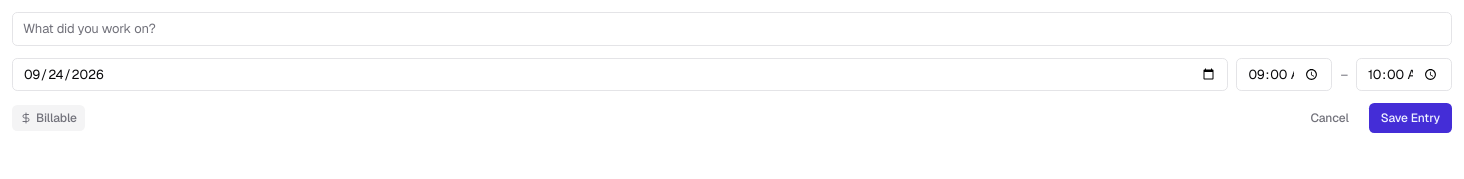
Test: ManualTimeEntryForm › should show "Network error" when fetch throws
Click the button "Save Entry" at (1410,118), box [1369, 103, 1452, 133]
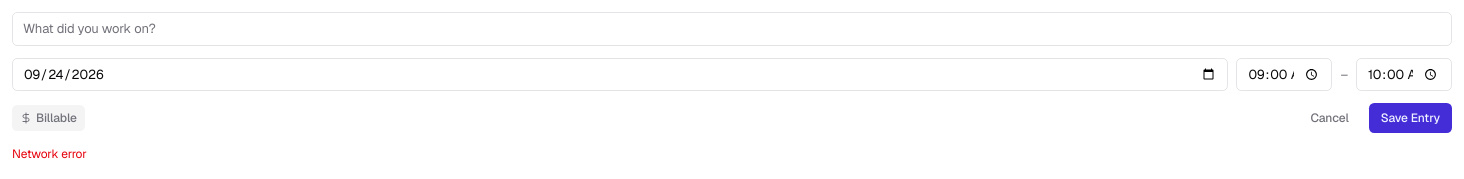
Check: the text "Network error" is shown, box [12, 146, 87, 162]
